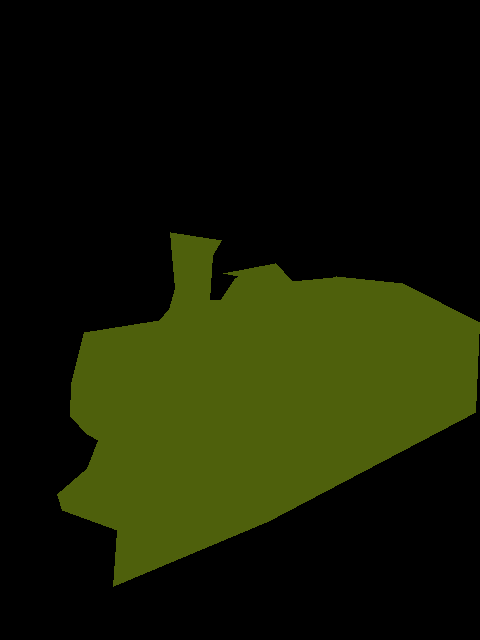Train: (57, 232, 480, 586)
